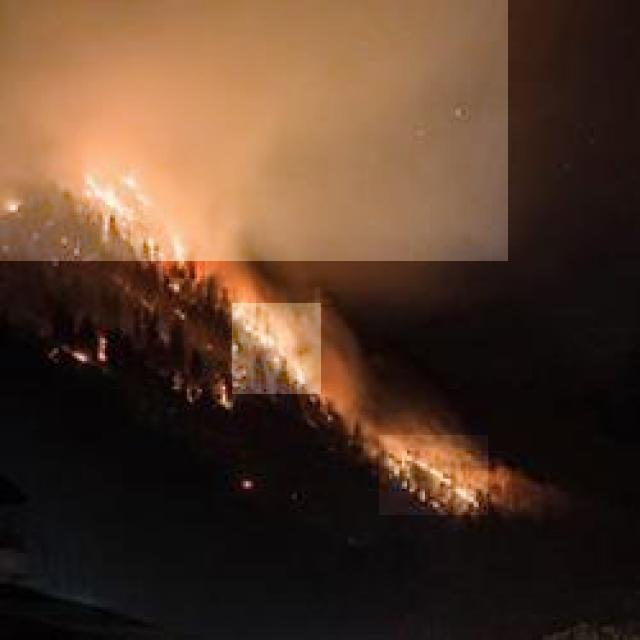Fire: (379, 435, 488, 515), (232, 303, 321, 394), (88, 170, 144, 225), (163, 228, 205, 278)
Smoke: (0, 0, 508, 261)
